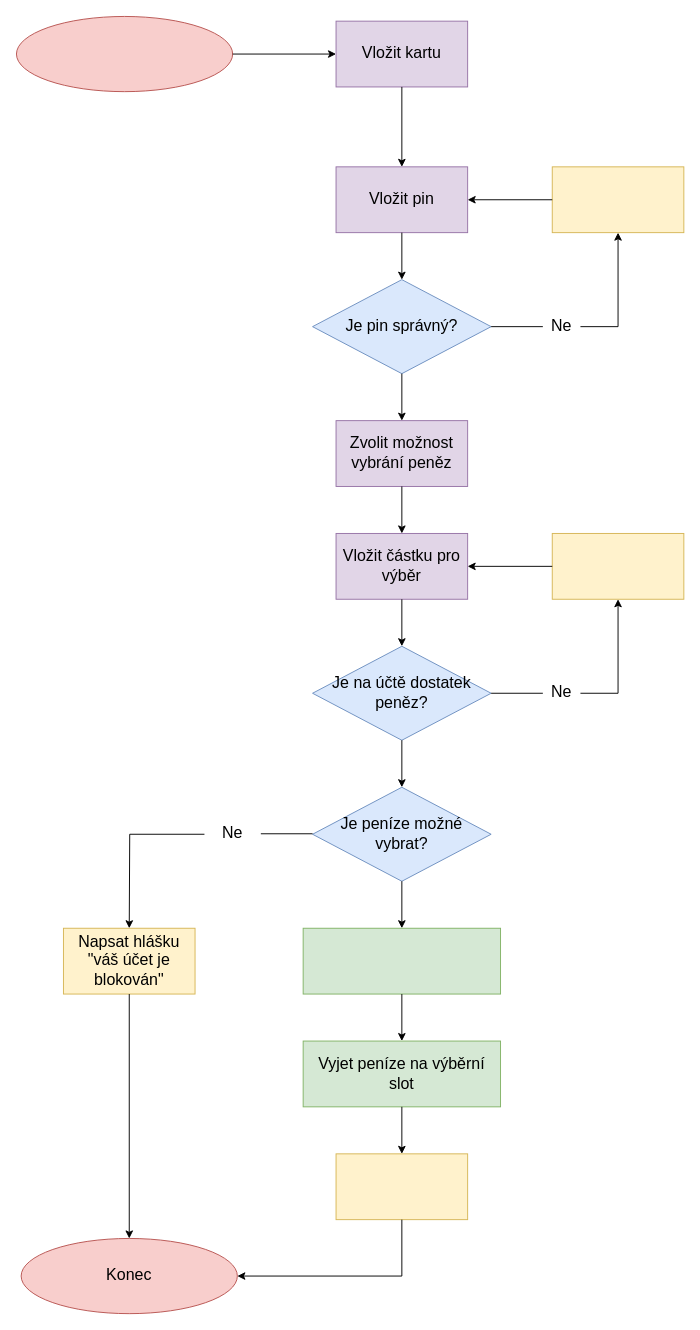
Some shapes in this 700 by 1330 pixel diagram are drawn without their labels. Here are the shapes that lost their labels. From the top down, the centre of each, then its label:
[124,54]: Začátek
[617,199]: Napsat hlášku "zkuste to znovu"
[617,566]: Napsat hlášku "nedostatek peněz"
[401,960]: Aktualizovat pozůstatek na účtě
[401,1186]: Napsat hlášku "výběr proběhl v pořádku"
